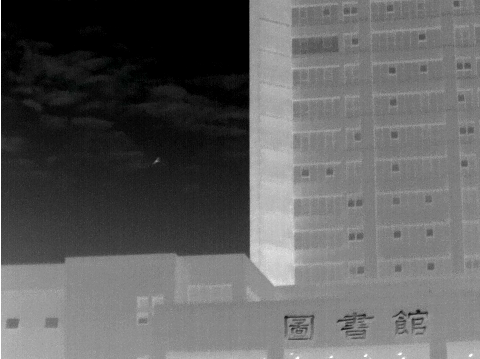dim target: (146, 149, 165, 169)
